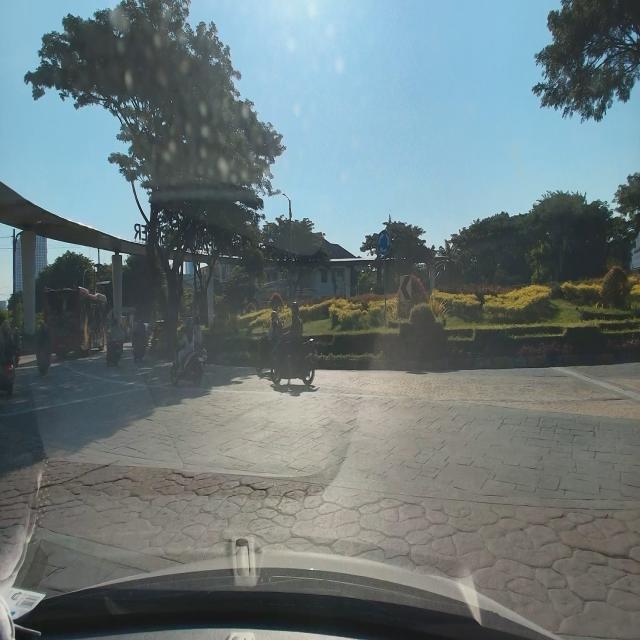bus: (40, 282, 109, 361)
